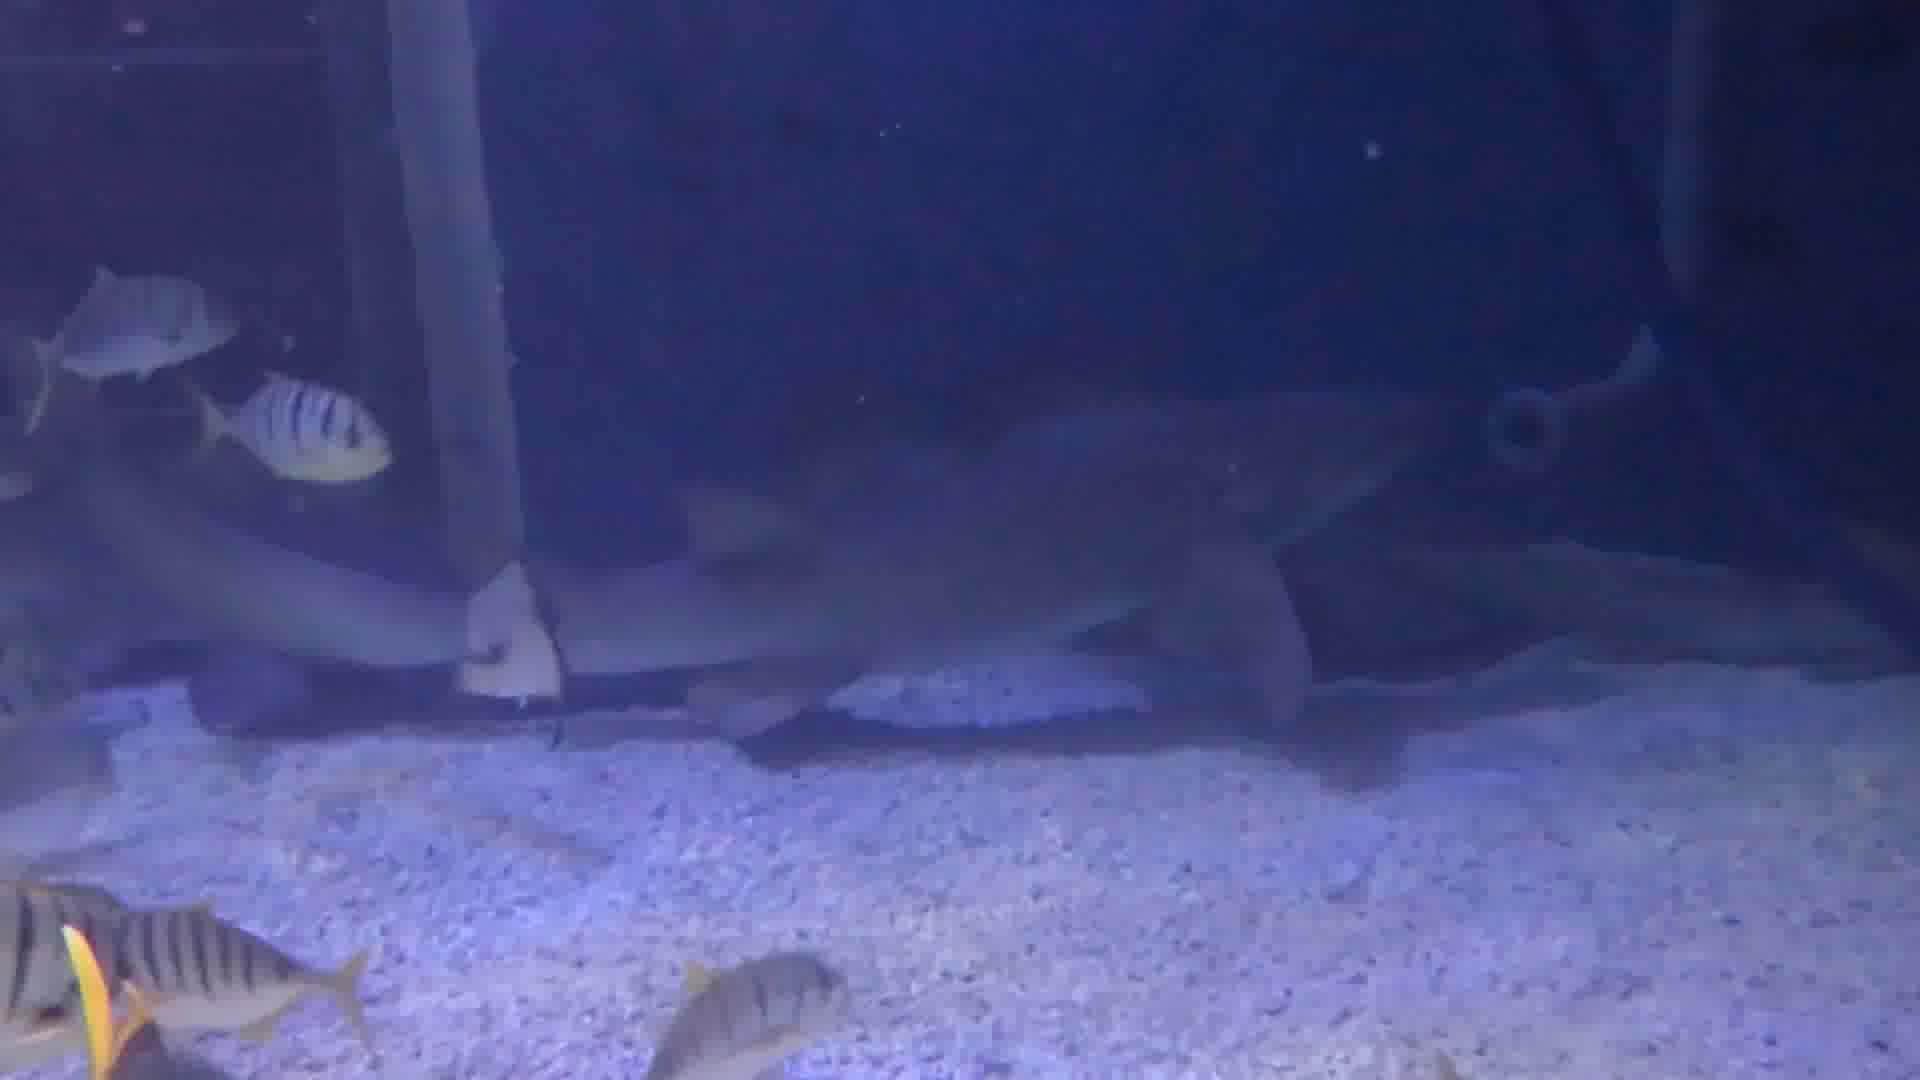Nebrius ferrugineus: (591, 409, 1484, 713)
